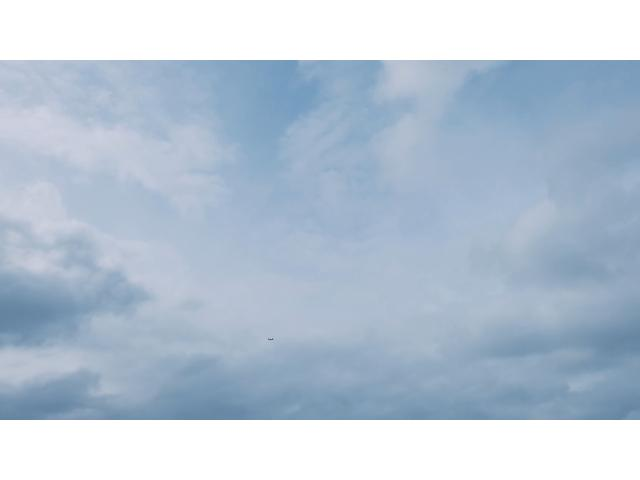Anti-Drone: (264, 334, 276, 344)
